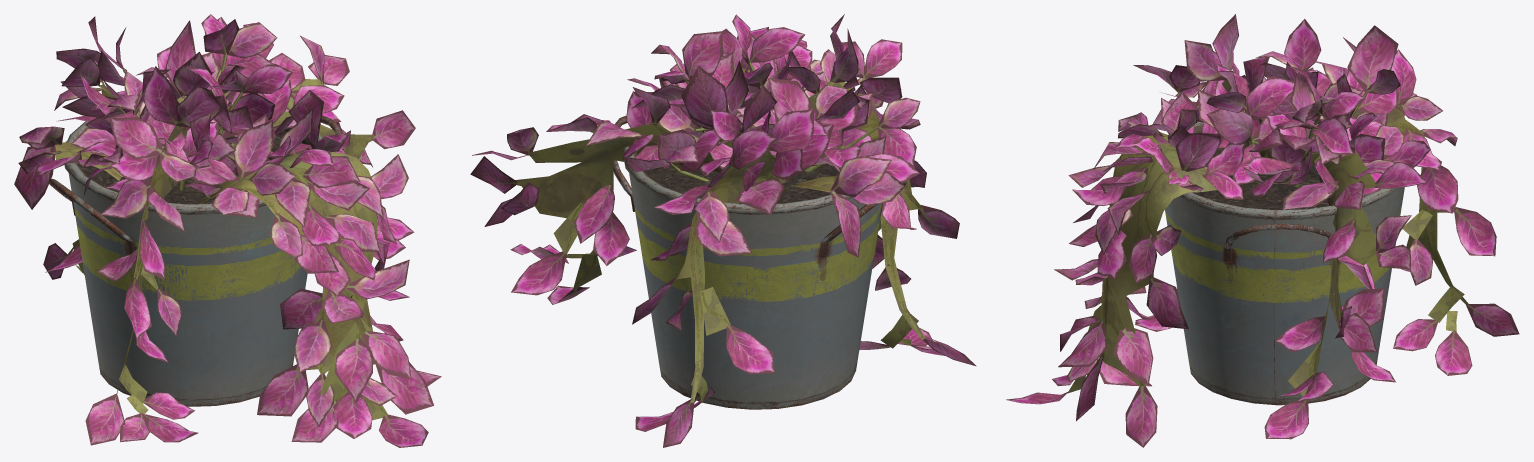
The model's file is 002_Red_Herb.fbx.
3 views of the same model, side by side, from view 1: azimuth 30°, elevation 25°; view 2: azimuth 150°, elevation 25°; view 3: azimuth 270°, elevation 25° (orthographic). The views are drawn at different scales.
Parts seen in each view (by area): view 1: LOD_1_Group_3_Sub_1__sm70_002_RedHerb01A_A_Mat__Env_AlphaTes, LOD_1_Group_2_Sub_1__sm70_002_RedHerb01A_B_Mat__Env_Default, LOD_1_Group_1_Sub_1__sm70_002_RedHerb01A_B_Mat__Env_Default, LOD_1_Group_0_Sub_1__sm70_002_RedHerb01A_B_Mat__Env_Default; view 2: LOD_1_Group_3_Sub_1__sm70_002_RedHerb01A_A_Mat__Env_AlphaTes, LOD_1_Group_2_Sub_1__sm70_002_RedHerb01A_B_Mat__Env_Default, LOD_1_Group_1_Sub_1__sm70_002_RedHerb01A_B_Mat__Env_Default, LOD_1_Group_0_Sub_1__sm70_002_RedHerb01A_B_Mat__Env_Default; view 3: LOD_1_Group_3_Sub_1__sm70_002_RedHerb01A_A_Mat__Env_AlphaTes, LOD_1_Group_2_Sub_1__sm70_002_RedHerb01A_B_Mat__Env_Default, LOD_1_Group_1_Sub_1__sm70_002_RedHerb01A_B_Mat__Env_Default, LOD_1_Group_0_Sub_1__sm70_002_RedHerb01A_B_Mat__Env_Default.
Boxes of the visible parts, box(x1,y1,x2,y2) form: LOD_1_Group_3_Sub_1__sm70_002_RedHerb01A_A_Mat__Env_AlphaTes: box(14, 14, 441, 447); LOD_1_Group_2_Sub_1__sm70_002_RedHerb01A_B_Mat__Env_Default: box(64, 121, 322, 406); LOD_1_Group_1_Sub_1__sm70_002_RedHerb01A_B_Mat__Env_Default: box(79, 130, 307, 204); LOD_1_Group_0_Sub_1__sm70_002_RedHerb01A_B_Mat__Env_Default: box(48, 115, 343, 254); LOD_1_Group_3_Sub_1__sm70_002_RedHerb01A_A_Mat__Env_AlphaTes: box(470, 14, 976, 447); LOD_1_Group_2_Sub_1__sm70_002_RedHerb01A_B_Mat__Env_Default: box(623, 123, 882, 409); LOD_1_Group_1_Sub_1__sm70_002_RedHerb01A_B_Mat__Env_Default: box(644, 153, 840, 203); LOD_1_Group_0_Sub_1__sm70_002_RedHerb01A_B_Mat__Env_Default: box(613, 115, 906, 257); LOD_1_Group_3_Sub_1__sm70_002_RedHerb01A_A_Mat__Env_AlphaTes: box(1006, 14, 1519, 447); LOD_1_Group_2_Sub_1__sm70_002_RedHerb01A_B_Mat__Env_Default: box(1165, 121, 1404, 405); LOD_1_Group_1_Sub_1__sm70_002_RedHerb01A_B_Mat__Env_Default: box(1193, 148, 1340, 210); LOD_1_Group_0_Sub_1__sm70_002_RedHerb01A_B_Mat__Env_Default: box(1223, 224, 1339, 262).
Size of the model in its own units: 0.4413 by 0.3432 by 0.4929.
